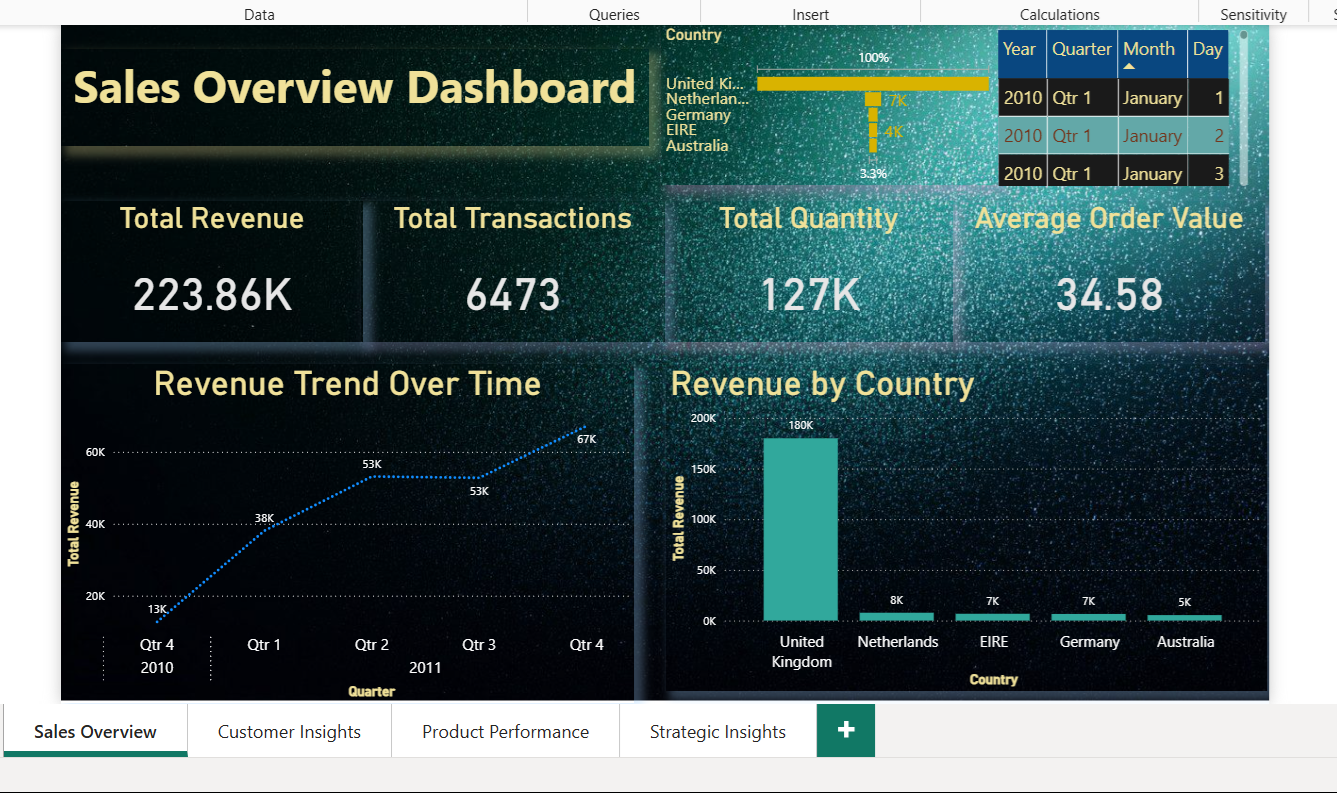

This screenshot's page, from the dashboard's own definition file:
{"tool":"powerbi","page":{"name":"Sales Overview","canvas":[1280,720],"ordinal":0},"visuals":[{"type":"funnel","title":"Country","fields":{"Category":["customers_new.Country"],"Y":["Sum(transformed_online_retail.Quantity)"]},"box":[636.9,0,357.2,170.1],"z":0},{"type":"tableEx","fields":{"Values":["transformed_online_retail.InvoiceDate.Variation.Date Hierarchy.Year","transformed_online_retail.InvoiceDate.Variation.Date Hierarchy.Quarter","transformed_online_retail.InvoiceDate.Variation.Date Hierarchy.Month","transformed_online_retail.InvoiceDate.Variation.Date Hierarchy.Day"]},"box":[988.4,0,275.9,175.7],"z":1000},{"type":"card","title":"Total Revenue","fields":{"Values":["transformed_online_retail.Total Revenue"]},"box":[0,186.7,320,150],"z":2000},{"type":"card","title":"Total Transactions","fields":{"Values":["transformed_online_retail.Total Transactions"]},"box":[318.3,186.7,321.7,150],"z":3000},{"type":"card","title":"Total Quantity","fields":{"Values":["transformed_online_retail.Total Quantity"]},"box":[640,186.7,306.7,150],"z":4000},{"type":"card","title":"Average Order Value","fields":{"Values":["transformed_online_retail.AOV"]},"box":[946.7,186.7,330,150],"z":5000},{"type":"lineChart","title":"Revenue Trend Over Time","fields":{"Y":["transformed_online_retail.Total Revenue"],"Category":["transformed_online_retail.OrderDate.Variation.Date Hierarchy.Year","transformed_online_retail.OrderDate.Variation.Date Hierarchy.Quarter"]},"box":[0,359.5,607.6,359.5],"z":6000},{"type":"clusteredColumnChart","title":"Revenue by Country","fields":{"Category":["transformed_online_retail.Country"],"Y":["transformed_online_retail.Total Revenue"]},"box":[641,359.5,637.8,346.8],"z":7000},{"type":"textbox","box":[0,25,623.3,103.3],"z":8000}]}

Visuals, with their boxes on the page's 1280x720 design canvas (x1, y1, x2, y2). These are canvas units, not pixel positions in the 1337x793 screenshot, which may show the page scaled, cropped or inside an application window:
"Country" funnel: bbox=[637, 0, 994, 170]
tableEx - transformed_online_retail.InvoiceDate.Variation.Date Hierarchy.Year x transformed_online_retail.InvoiceDate.Variation.Date Hierarchy.Quarter: bbox=[988, 0, 1264, 176]
"Total Revenue" card: bbox=[0, 187, 320, 337]
"Total Transactions" card: bbox=[318, 187, 640, 337]
"Total Quantity" card: bbox=[640, 187, 947, 337]
"Average Order Value" card: bbox=[947, 187, 1277, 337]
"Revenue Trend Over Time" lineChart: bbox=[0, 360, 608, 719]
"Revenue by Country" clusteredColumnChart: bbox=[641, 360, 1279, 706]
textbox: bbox=[0, 25, 623, 128]
